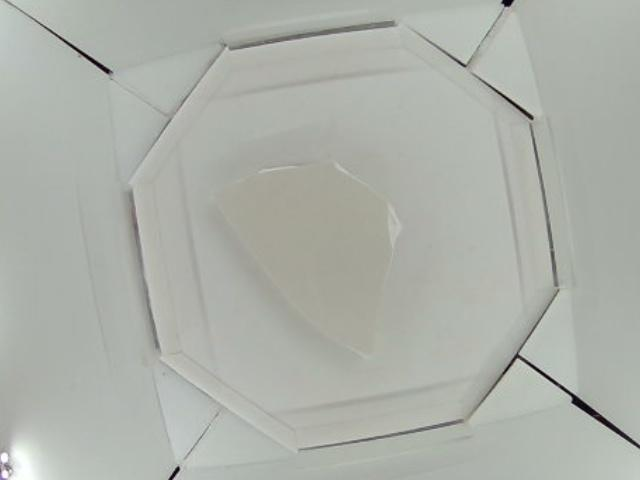China: (227, 154, 404, 364)
